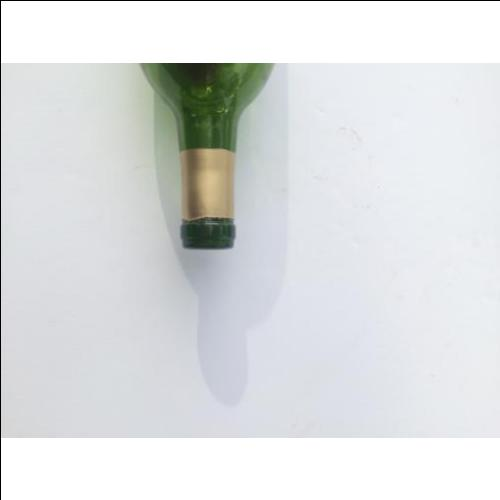glass: (139, 64, 274, 249)
